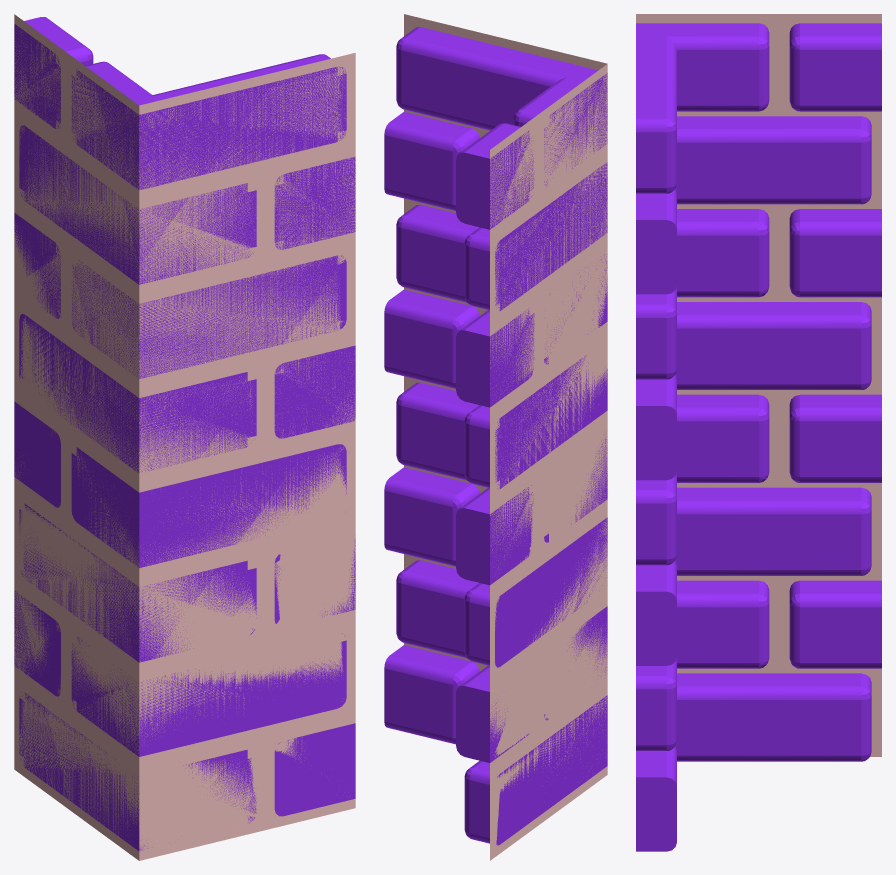
File: concave_2_low.dae
The picture shows the model from 3 angles, left to right: view 1: azimuth 30°, elevation 25°; view 2: azimuth 150°, elevation 25°; view 3: azimuth 270°, elevation 25°; orthographic projection. The views are drawn at different scales.
Parts seen in each view (by area): view 1: corner_concave_1 (×8), group_2 (×8), group_3 (×8), group_1 (×8), brick_half_1 (×8); view 2: corner_concave_1 (×12), brick_half_1 (×8), group_2 (×5), group_3 (×4), group_1 (×4), st4 (×4); view 3: corner_concave_1 (×16), brick_half_1 (×8), st3 (×16), group_2 (×4), st4 (×8), group_3 (×4), group_1 (×4).
Part boxes in pixels (<box>): corner_concave_1 (×8): <box>19,55,346,851</box>; group_2 (×8): <box>14,53,355,860</box>; group_3 (×8): <box>66,52,265,860</box>; group_1 (×8): <box>14,14,355,829</box>; brick_half_1 (×8): <box>14,17,355,815</box>; corner_concave_1 (×12): <box>401,27,607,844</box>; brick_half_1 (×8): <box>384,112,534,762</box>; group_2 (×5): <box>404,14,607,860</box>; group_3 (×4): <box>539,64,607,735</box>; group_1 (×4): <box>490,114,538,771</box>; st4 (×4): <box>384,122,456,684</box>; corner_concave_1 (×16): <box>636,23,861,761</box>; brick_half_1 (×8): <box>636,23,881,851</box>; st3 (×16): <box>666,46,871,755</box>; group_2 (×4): <box>677,107,881,756</box>; st4 (×8): <box>800,36,881,668</box>; group_3 (×4): <box>636,14,779,664</box>; group_1 (×4): <box>779,14,881,664</box>.
Bounding box in the file's own units: 23.62 × 23.62 × 78.74.
